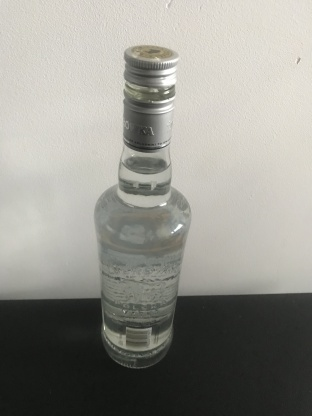nakretka: (121, 41, 180, 152)
